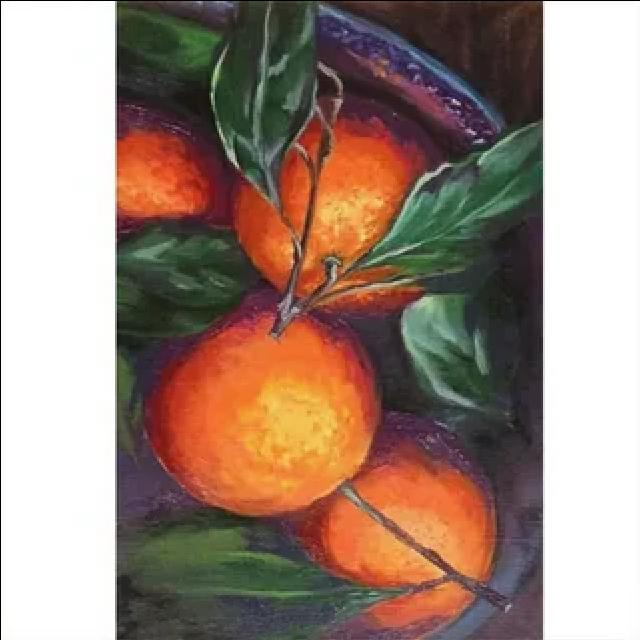orange: (138, 297, 374, 523)
